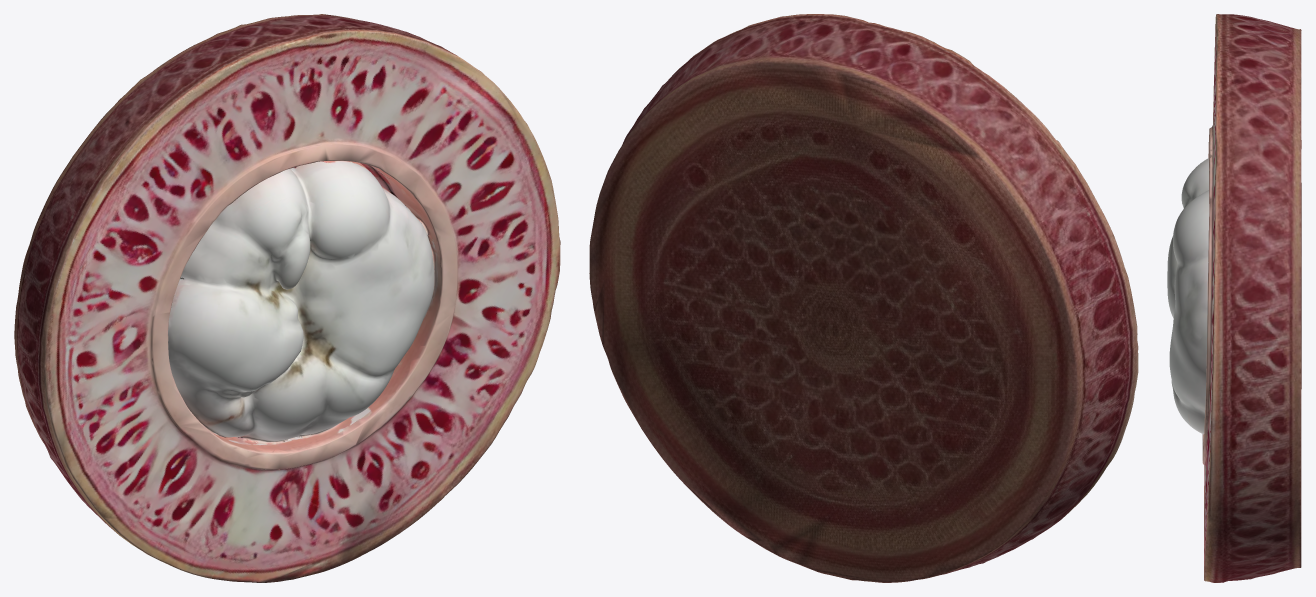
File: abscess-rabbit.glb
The picture shows the model from 3 angles, left to right: view 1: azimuth 30°, elevation 25°; view 2: azimuth 150°, elevation 25°; view 3: azimuth 270°, elevation 25°; orthographic projection. The views are drawn at different scales.
Visible parts, largest first — view 1: model; view 2: model; view 3: model.
Part boxes in pixels (x1,y1,x2,y2): model: [14, 14, 560, 582]; model: [589, 14, 1138, 582]; model: [1167, 14, 1301, 582].
Bounding box in the file's own units: 1.89 × 1.87 × 0.4403.
Materials: 1 (1 with a texture image).
